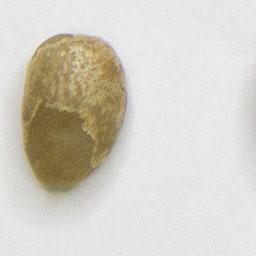premium: (17, 29, 131, 195)
